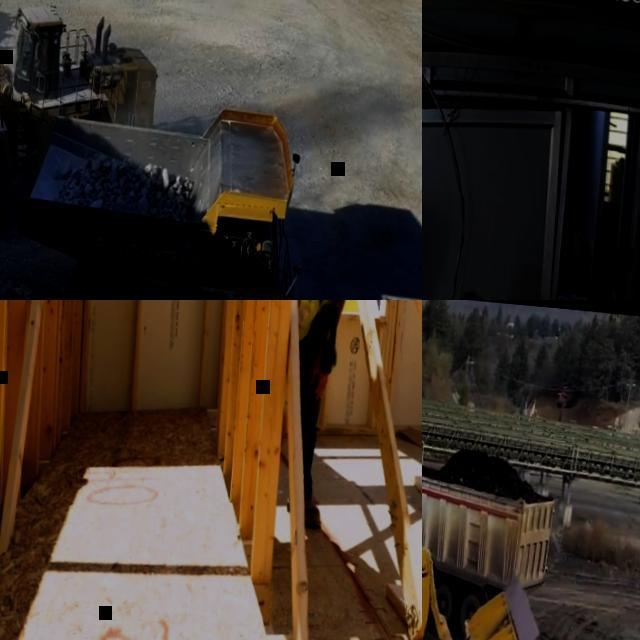vest: (287, 300, 368, 345)
